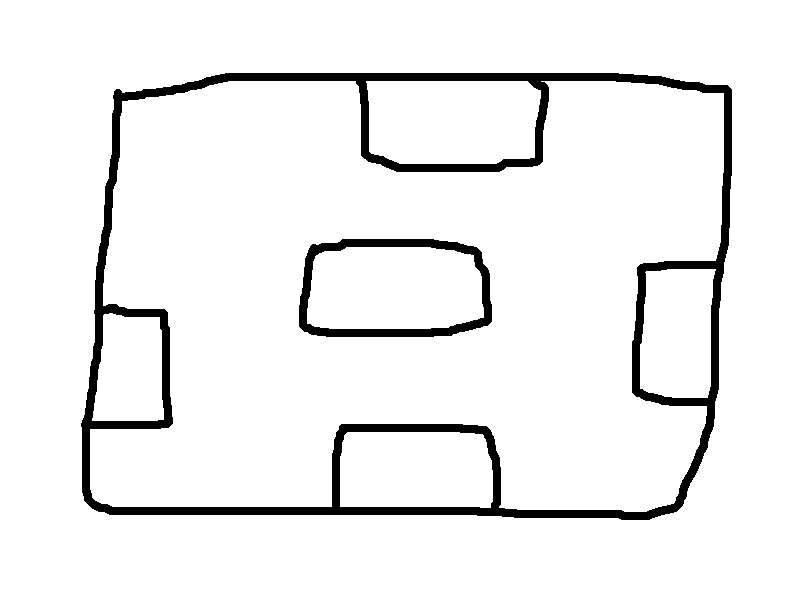dog: (293, 232, 500, 344), (350, 70, 554, 175), (326, 419, 506, 517), (627, 258, 724, 408), (79, 300, 175, 434)
